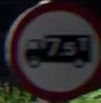Heavy Vehicles: (9, 5, 96, 85)
